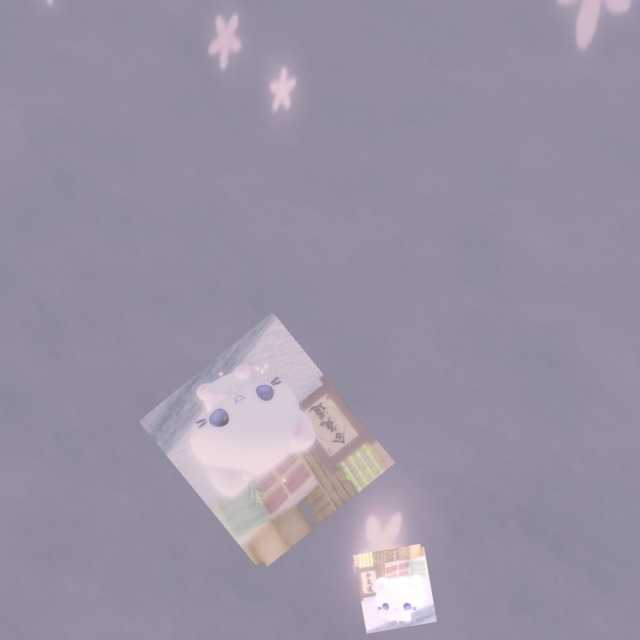urso_branco: (138, 312, 396, 572), (353, 543, 437, 634)
urso_preto: (216, 418, 250, 448)
